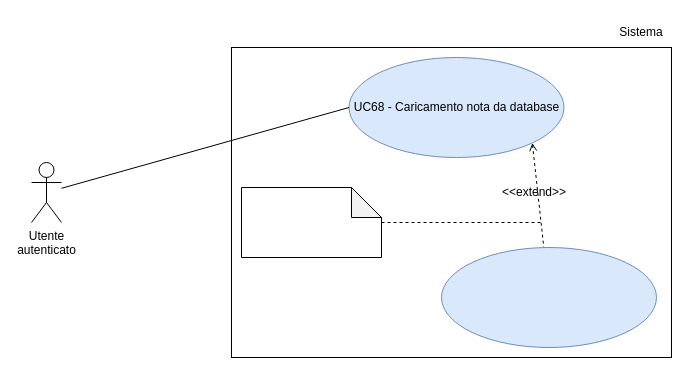
Some shapes in this 689 by 375 pixel diagram are drawn without their labels. The shapes that lost their labels are listed below. From the top down, each one's centre as x and y in pixels, then its label:
the point at 311,222: Condizione Il sistema non riesce a caricare la nota
the point at 548,297: UC69 - Errore caricamento nota
